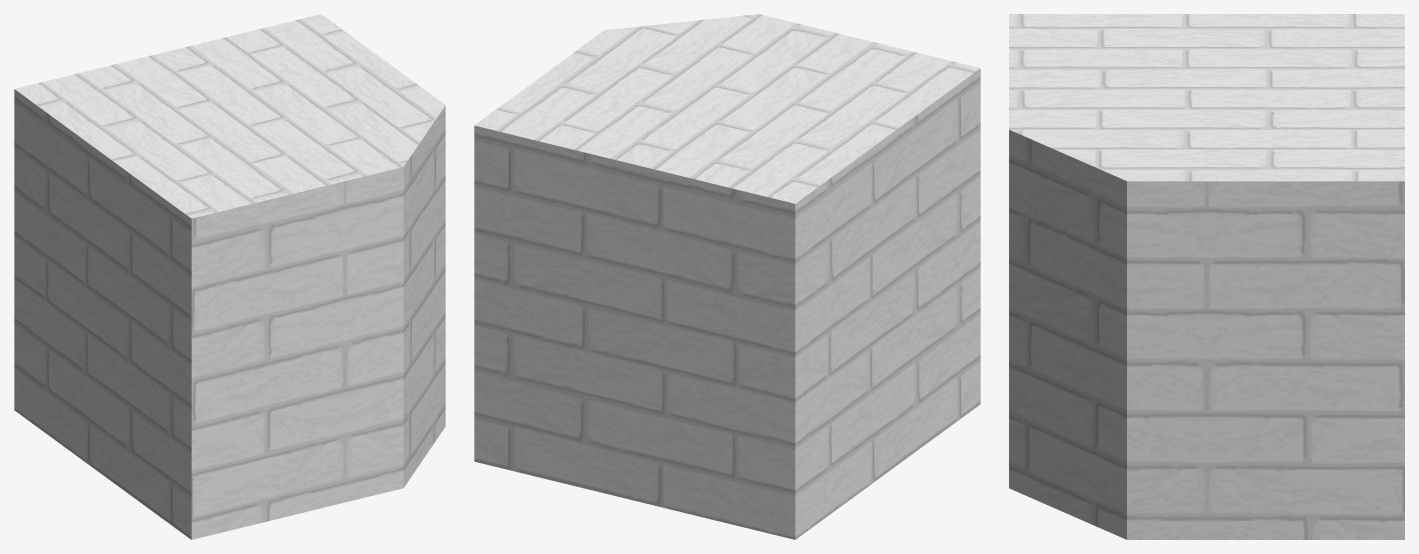
The model's file is castle_type_h.gltf.
3 renders of one model, left to right at view 1: azimuth 30°, elevation 25°; view 2: azimuth 150°, elevation 25°; view 3: azimuth 270°, elevation 25°, orthographic. The views are drawn at different scales.
Visible parts, largest first — view 1: Type_H; view 2: Type_H; view 3: Type_H.
Boxes of the visible parts, x1,y1,x2,y2 form: Type_H: [14, 14, 445, 539]; Type_H: [474, 14, 980, 539]; Type_H: [1009, 14, 1404, 539].
Size of the model in its own units: 1 by 1 by 1.
Materials: 1 (1 with a texture image).
